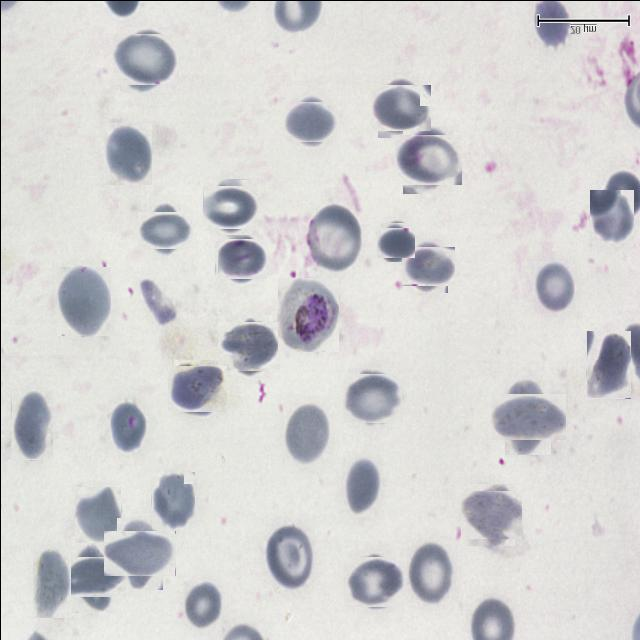difficult: (276, 277, 338, 352)
red blood cell: (304, 201, 361, 270), (55, 266, 110, 336), (497, 386, 558, 446), (116, 30, 174, 89), (398, 130, 457, 188), (110, 523, 168, 582), (264, 521, 314, 588), (346, 552, 402, 608), (220, 317, 276, 373), (462, 486, 518, 542), (406, 539, 454, 604), (64, 548, 119, 604), (585, 330, 630, 398), (282, 402, 329, 466), (103, 122, 151, 184), (344, 370, 398, 424), (10, 390, 52, 459), (170, 362, 223, 415), (374, 80, 426, 133), (32, 548, 70, 617), (150, 471, 194, 530), (74, 486, 120, 542), (589, 189, 633, 246), (204, 181, 254, 231), (342, 456, 381, 516), (532, 260, 574, 314), (286, 98, 334, 144), (404, 242, 451, 288), (142, 206, 188, 252), (217, 234, 263, 280), (182, 580, 221, 630), (110, 402, 148, 450), (378, 224, 412, 258)
